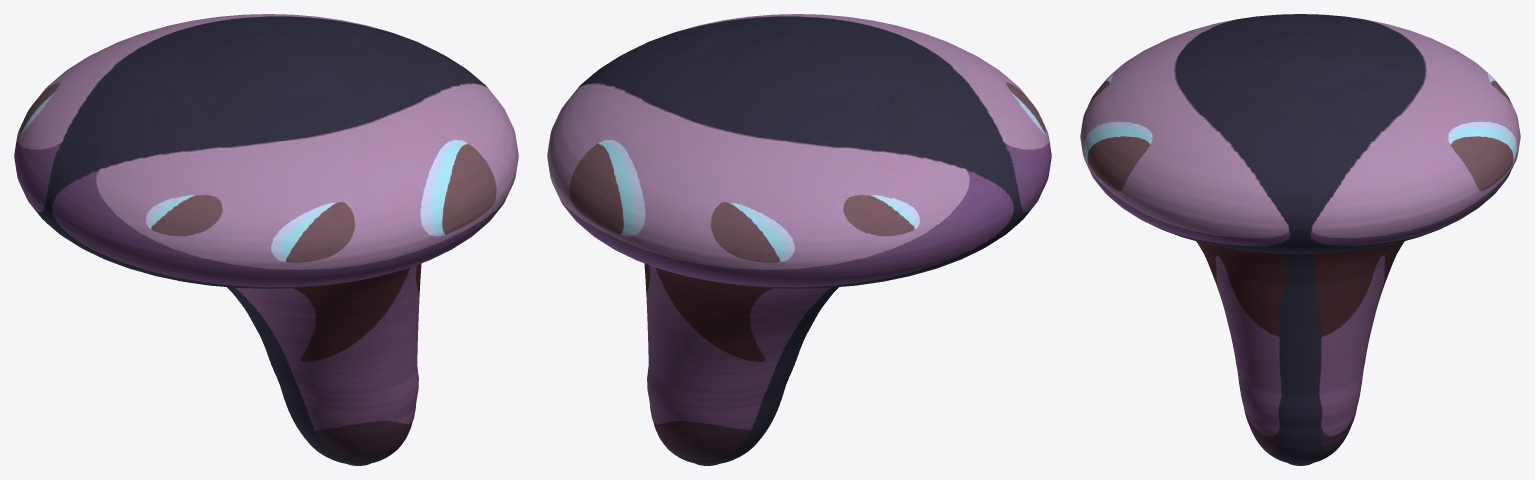
The model's file is violet_mushroom.glb.
The picture shows the model from 3 angles, left to right: view 1: azimuth 30°, elevation 25°; view 2: azimuth 150°, elevation 25°; view 3: azimuth 270°, elevation 25°; orthographic projection. The views are drawn at different scales.
Parts seen in each view (by area): view 1: violet_mushroom; view 2: violet_mushroom; view 3: violet_mushroom.
Part boxes in pixels (<box>): violet_mushroom: <box>14,14,518,465</box>; violet_mushroom: <box>547,14,1051,465</box>; violet_mushroom: <box>1080,14,1520,465</box>.
Size of the model in its own units: 1 by 0.9205 by 1.
Materials: 1 (1 with a texture image).
